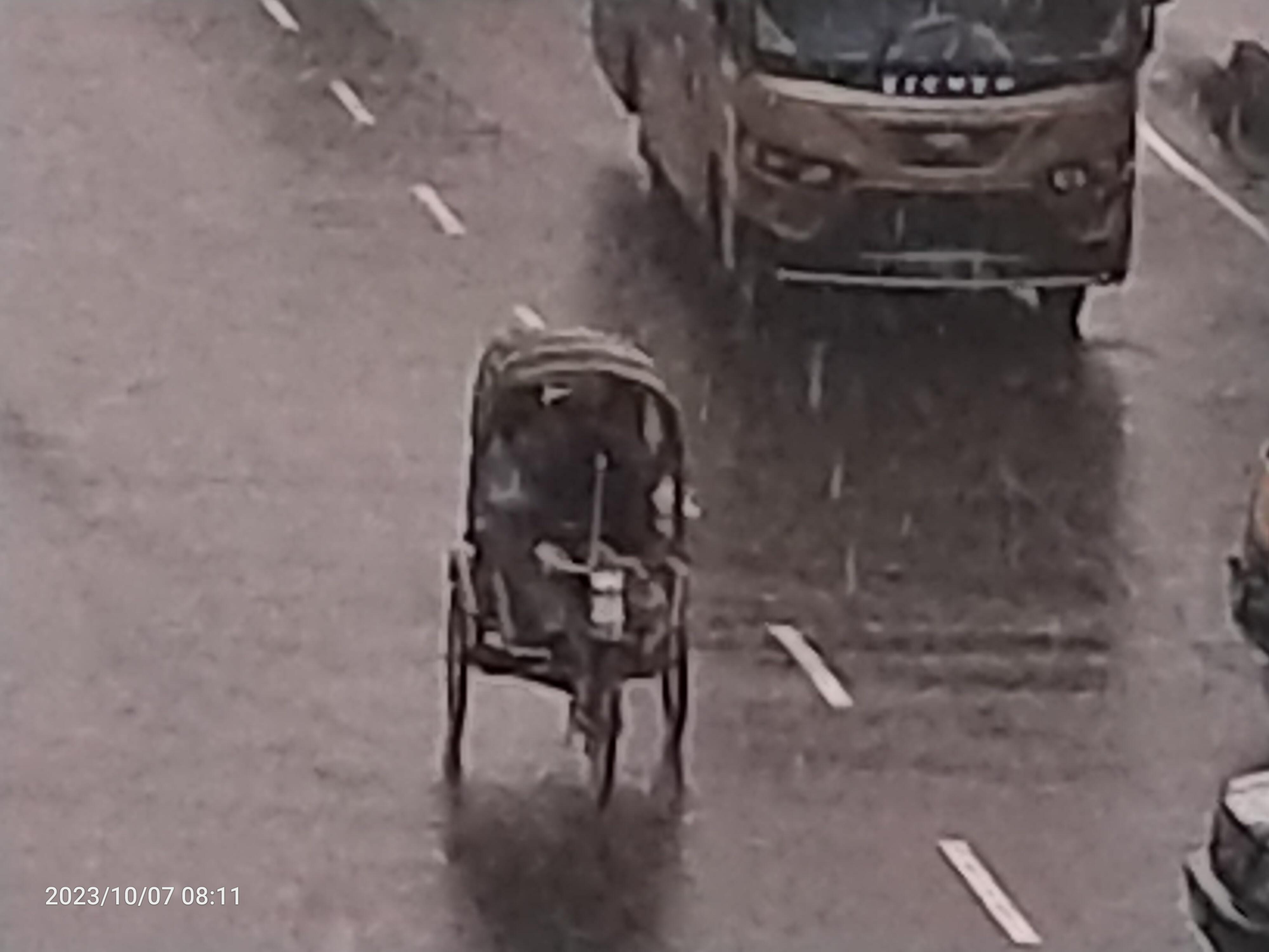Bus: (539, 0, 1198, 379)
Car: (370, 278, 816, 860)
